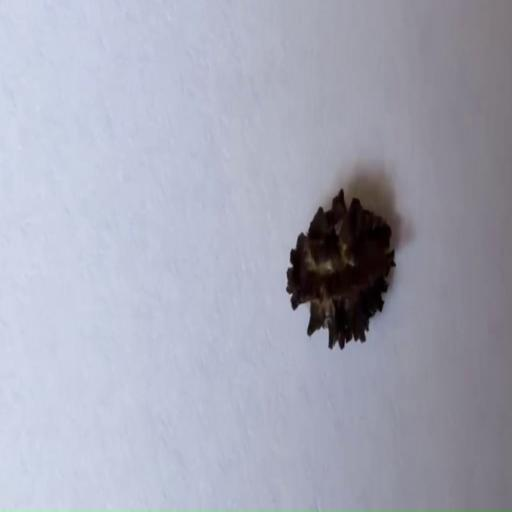papaya_seed: (281, 182, 396, 370)
